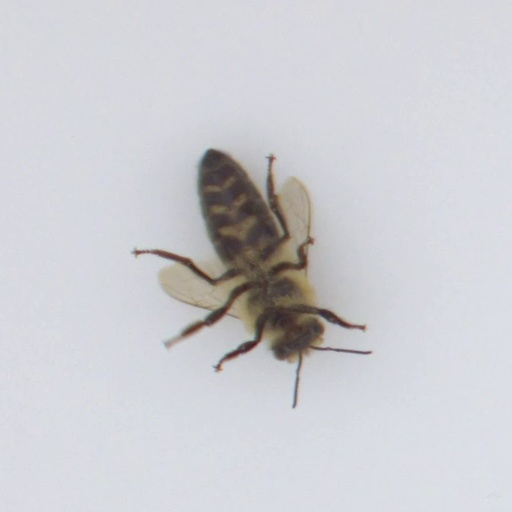Bee: (178, 135, 342, 377)
